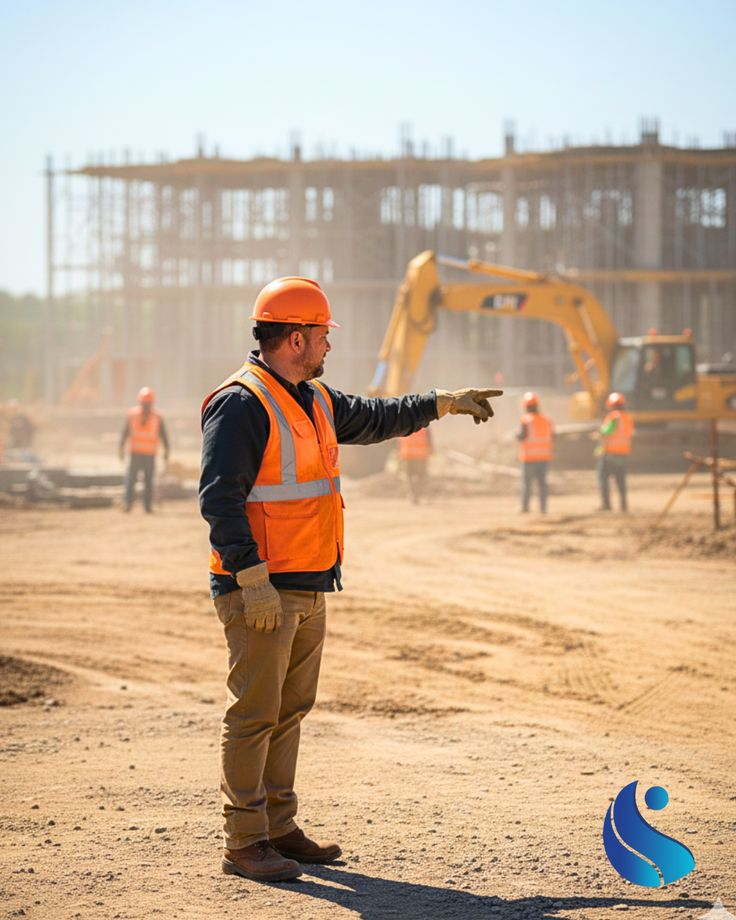excavator: (347, 207, 731, 535)
hardhat: (224, 264, 342, 335), (594, 379, 625, 409), (122, 381, 160, 404), (515, 383, 548, 409)
person: (183, 265, 392, 883), (498, 373, 577, 518), (103, 375, 173, 526), (591, 370, 651, 535), (384, 381, 444, 504)
safety_vest: (222, 355, 355, 614), (508, 404, 551, 478), (123, 403, 166, 471), (597, 413, 628, 475), (395, 421, 433, 466)
